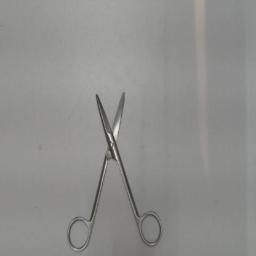Curved Mayo Scissors: (65, 84, 167, 254)
